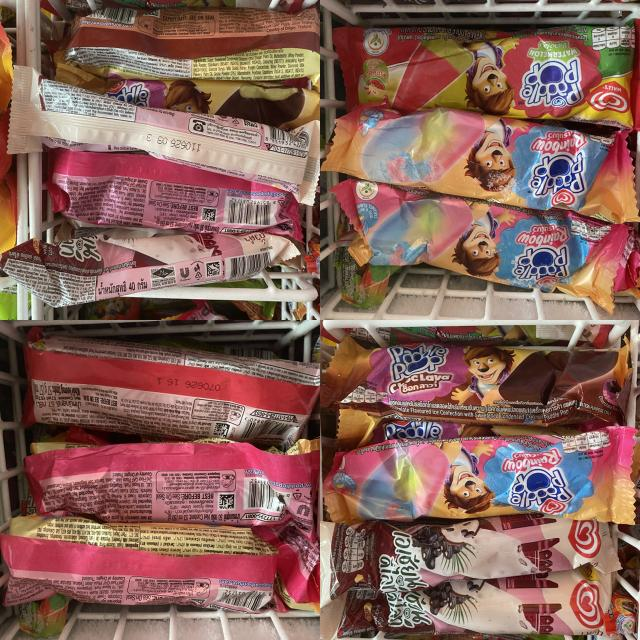plastik: (8, 66, 320, 204), (331, 179, 632, 313), (322, 104, 639, 222), (22, 329, 320, 448), (335, 25, 635, 128), (1, 515, 319, 612), (324, 426, 634, 525), (25, 442, 319, 540), (320, 514, 620, 606), (321, 338, 632, 424), (49, 149, 302, 241), (0, 232, 298, 308), (338, 565, 611, 638), (64, 8, 320, 85)
